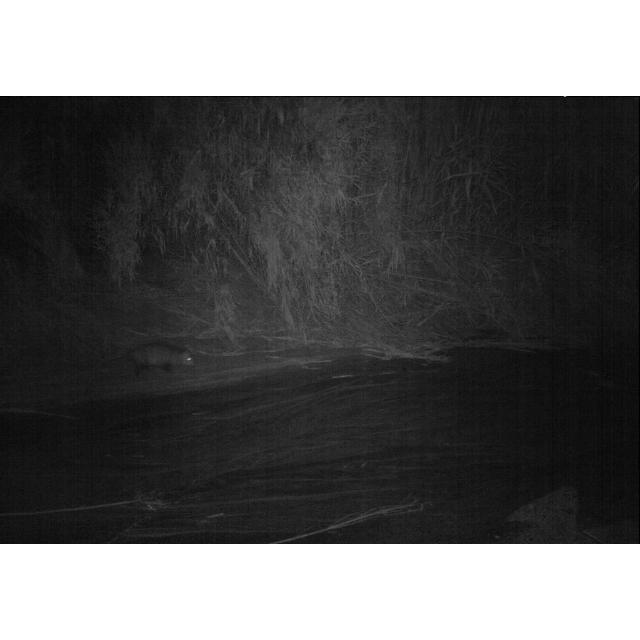animals: (122, 340, 198, 374)
